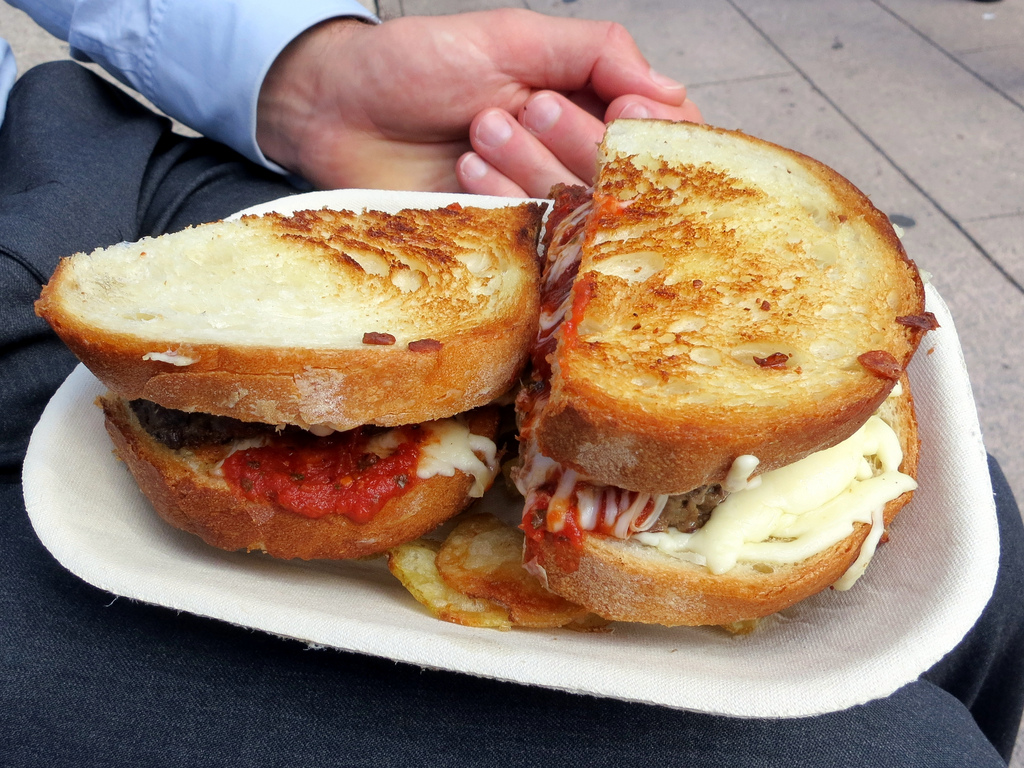slice of bread: (543, 124, 926, 448), (49, 187, 550, 422), (113, 439, 483, 568), (534, 518, 884, 631)
